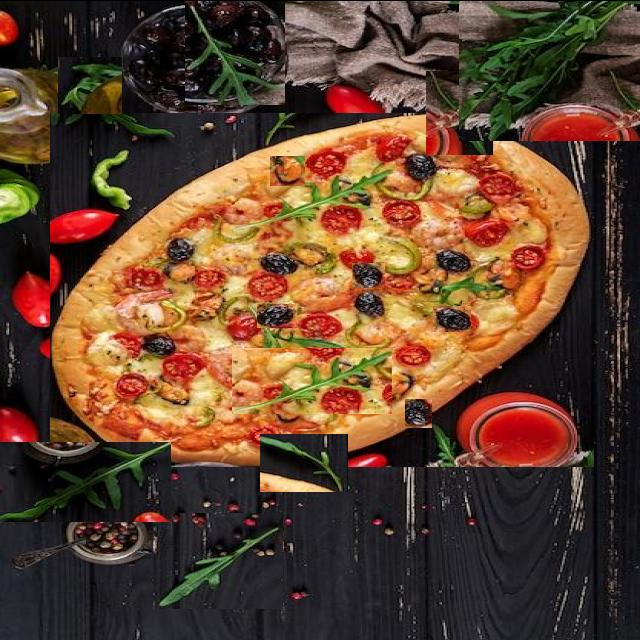basil: (459, 0, 640, 140), (0, 441, 171, 521), (153, 512, 283, 608), (241, 165, 349, 274), (232, 347, 392, 413), (185, 0, 285, 104), (426, 70, 493, 154), (260, 433, 348, 491), (58, 56, 122, 113), (431, 268, 492, 312)
olive: (149, 174, 192, 203), (270, 155, 305, 185), (271, 188, 304, 218), (433, 305, 471, 331), (257, 303, 297, 327), (352, 262, 385, 287), (406, 398, 434, 427), (164, 319, 194, 342)
pizza: (50, 112, 594, 466)
